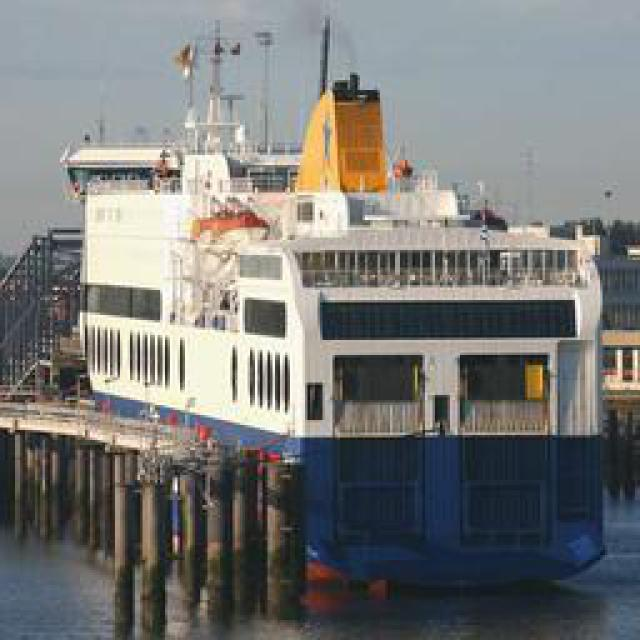Ship: (84, 27, 607, 605)
